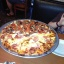pizza: (1, 20, 55, 52)
